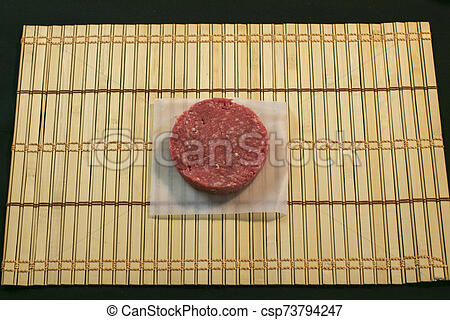ground_beef: (173, 98, 280, 206)
